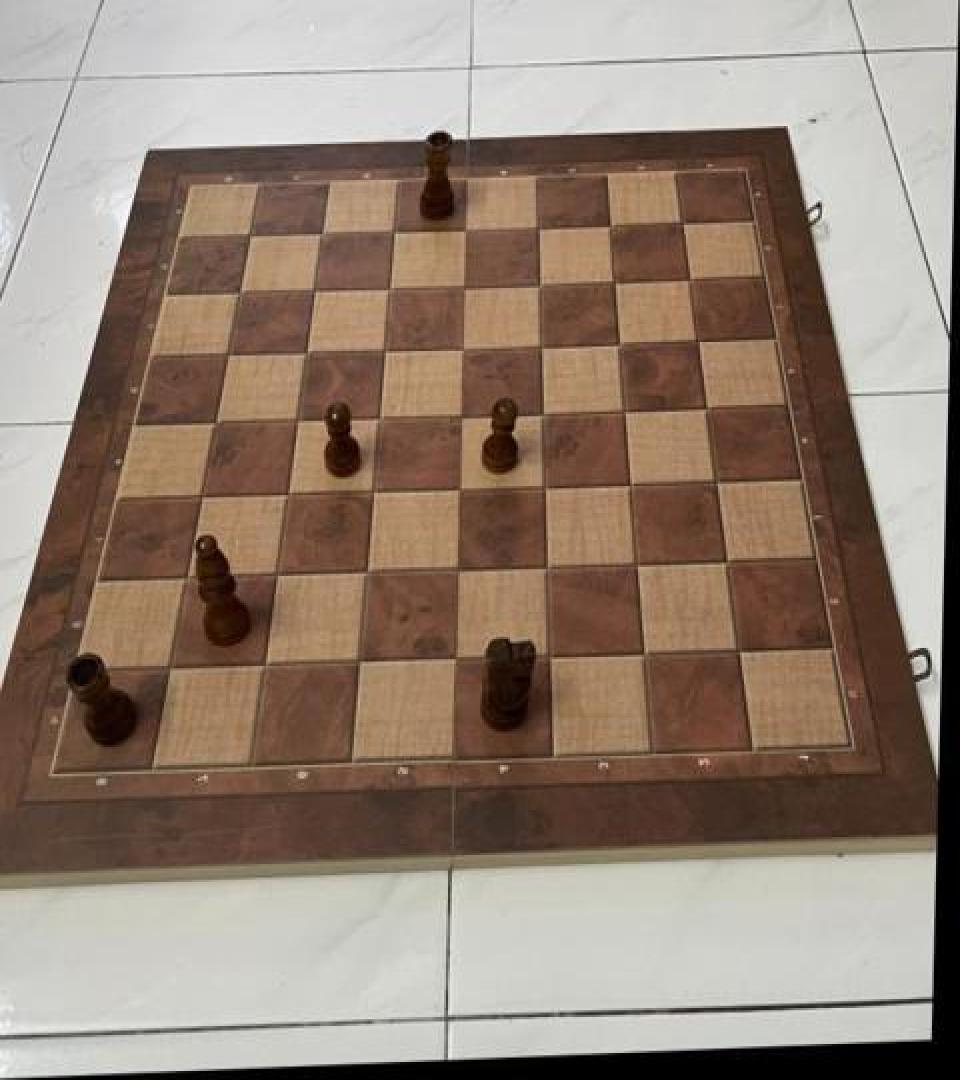xcorner: (300, 272, 334, 311), (283, 400, 317, 439), (236, 218, 270, 256), (307, 216, 341, 254), (379, 214, 413, 252), (450, 212, 484, 250), (522, 210, 556, 248), (593, 207, 627, 245), (665, 205, 699, 243), (225, 274, 259, 312), (374, 270, 408, 308), (449, 268, 483, 306), (523, 266, 557, 304), (598, 264, 632, 302), (672, 261, 706, 299), (214, 336, 248, 374), (292, 334, 326, 372), (369, 332, 403, 370), (447, 330, 481, 368), (525, 326, 559, 364), (603, 324, 637, 362), (681, 322, 715, 360), (201, 403, 235, 441), (364, 398, 398, 436), (445, 396, 479, 434), (527, 394, 561, 432), (608, 392, 642, 430), (689, 390, 723, 428), (188, 477, 222, 515), (273, 474, 307, 512), (358, 472, 392, 510), (443, 469, 477, 507), (528, 467, 562, 505), (614, 465, 648, 503), (699, 462, 733, 500), (173, 558, 207, 596), (262, 555, 296, 593), (352, 552, 386, 590), (441, 550, 475, 588), (530, 547, 564, 585), (620, 544, 654, 582), (710, 542, 744, 580), (156, 647, 190, 685), (250, 645, 284, 683), (344, 642, 378, 680), (439, 639, 473, 677), (533, 636, 567, 674), (627, 634, 661, 672), (721, 631, 755, 669)
